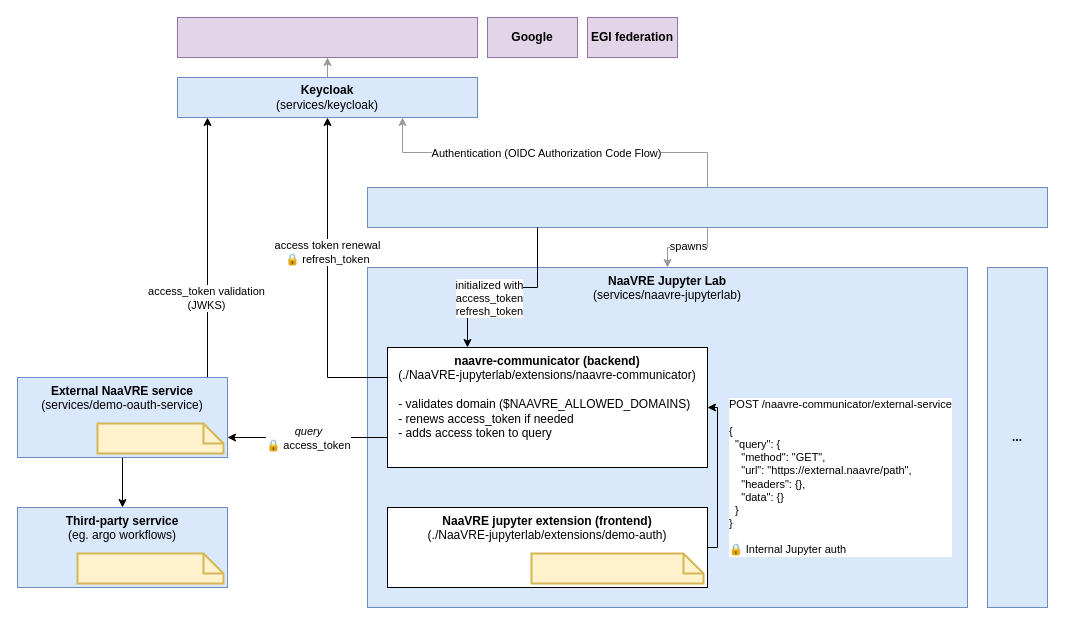
Image size: 1065x625. Some labels were removed from this diagram. The centre of each missing label's shape, as x and y in pixels:
"external service" belongs at [160,438].
"JL extension (frontend)" belongs at [617,568].
"Jupyter Hub (services/naavre-jupyterhub)" belongs at [707,207].
"LifeWatch AAI" belongs at [327,37].
"third-party service" belongs at [150,568].
